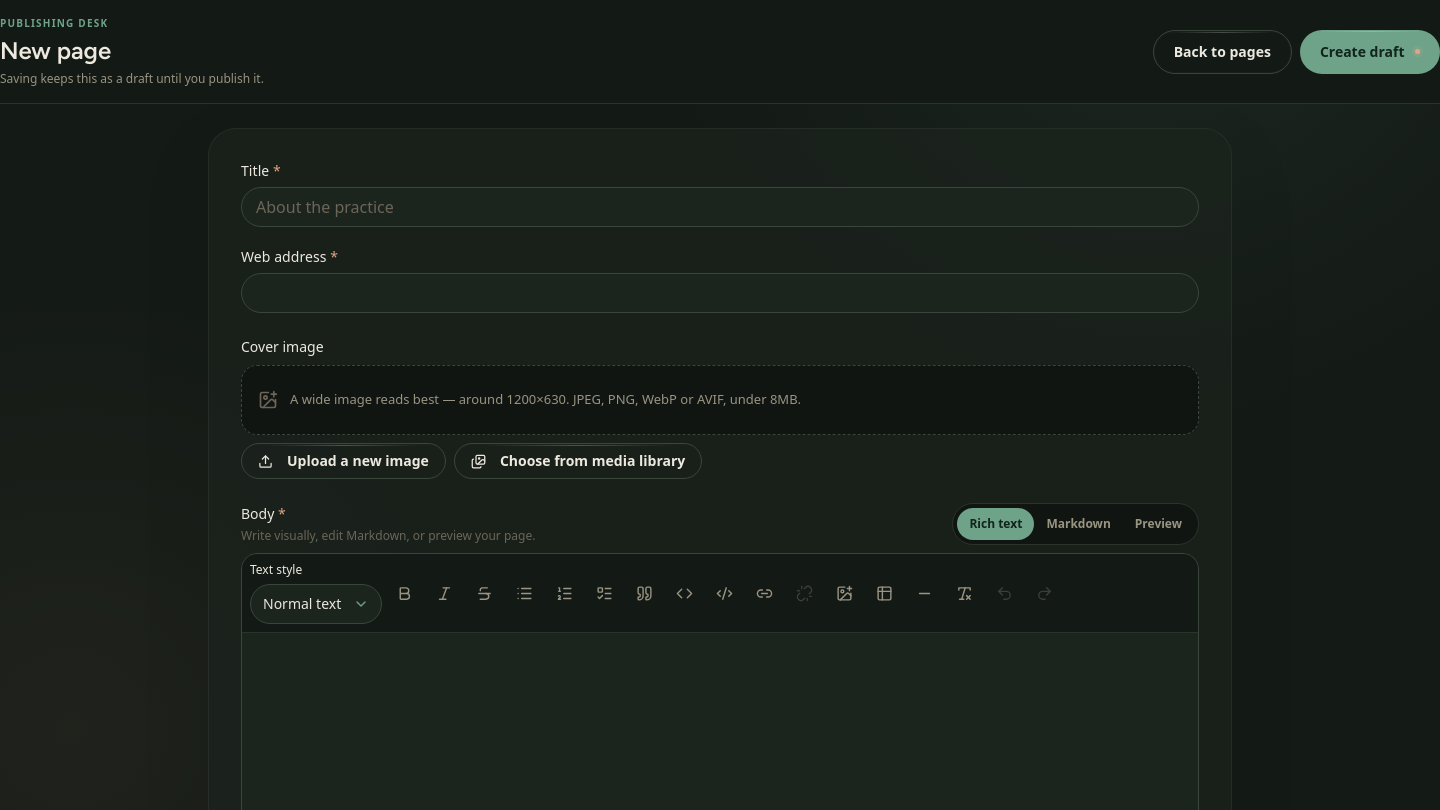
Test: ContentPage › refuses to save a page with no body
The width and height of the screenshot is (1440, 810).
Expected: the heading "New page" is shown, [0, 36, 111, 65]
Click the tab "Markdown": (1079,524) [1034, 508, 1123, 540]
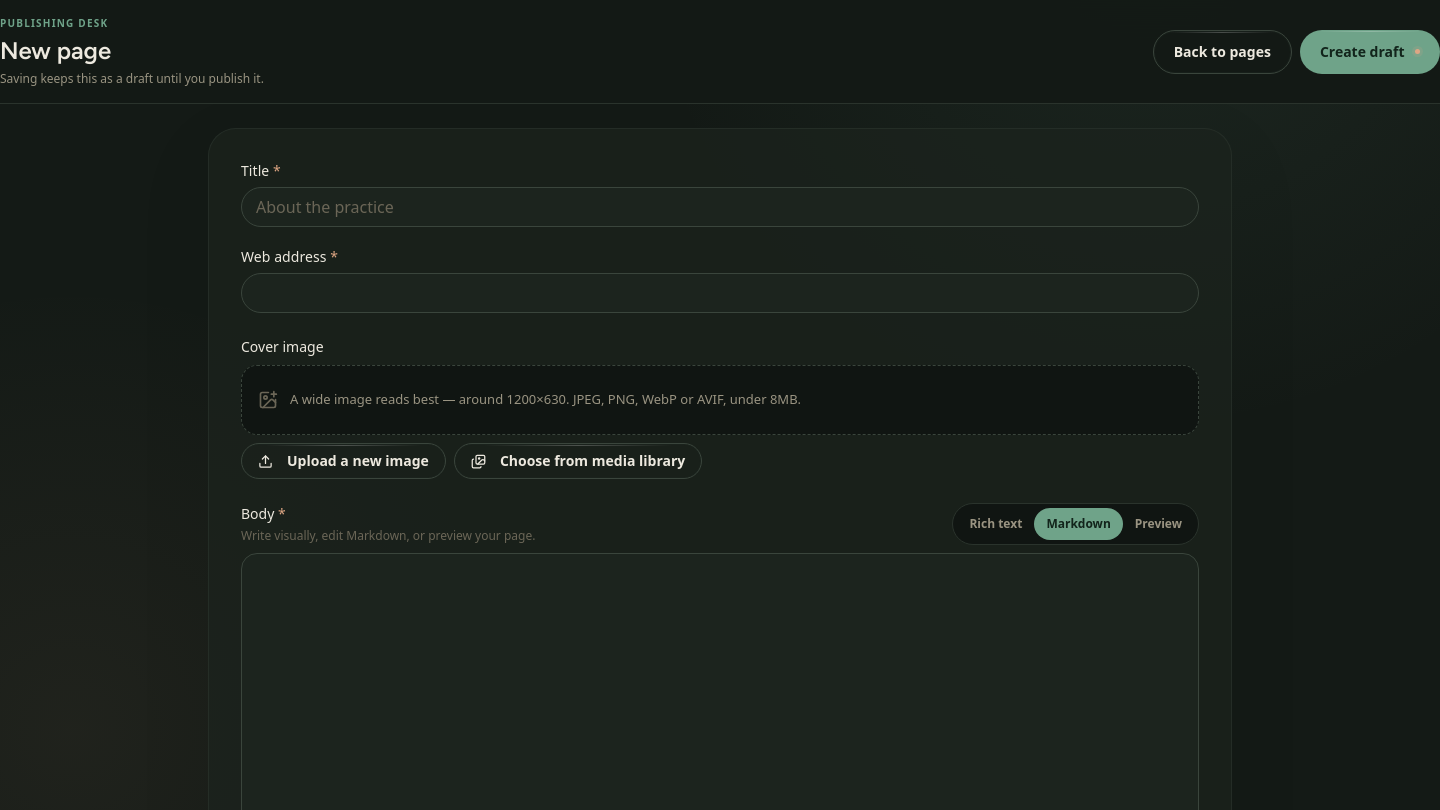
In the field labelled "Title *": (720,207) [241, 187, 1199, 227], type "Half-written"
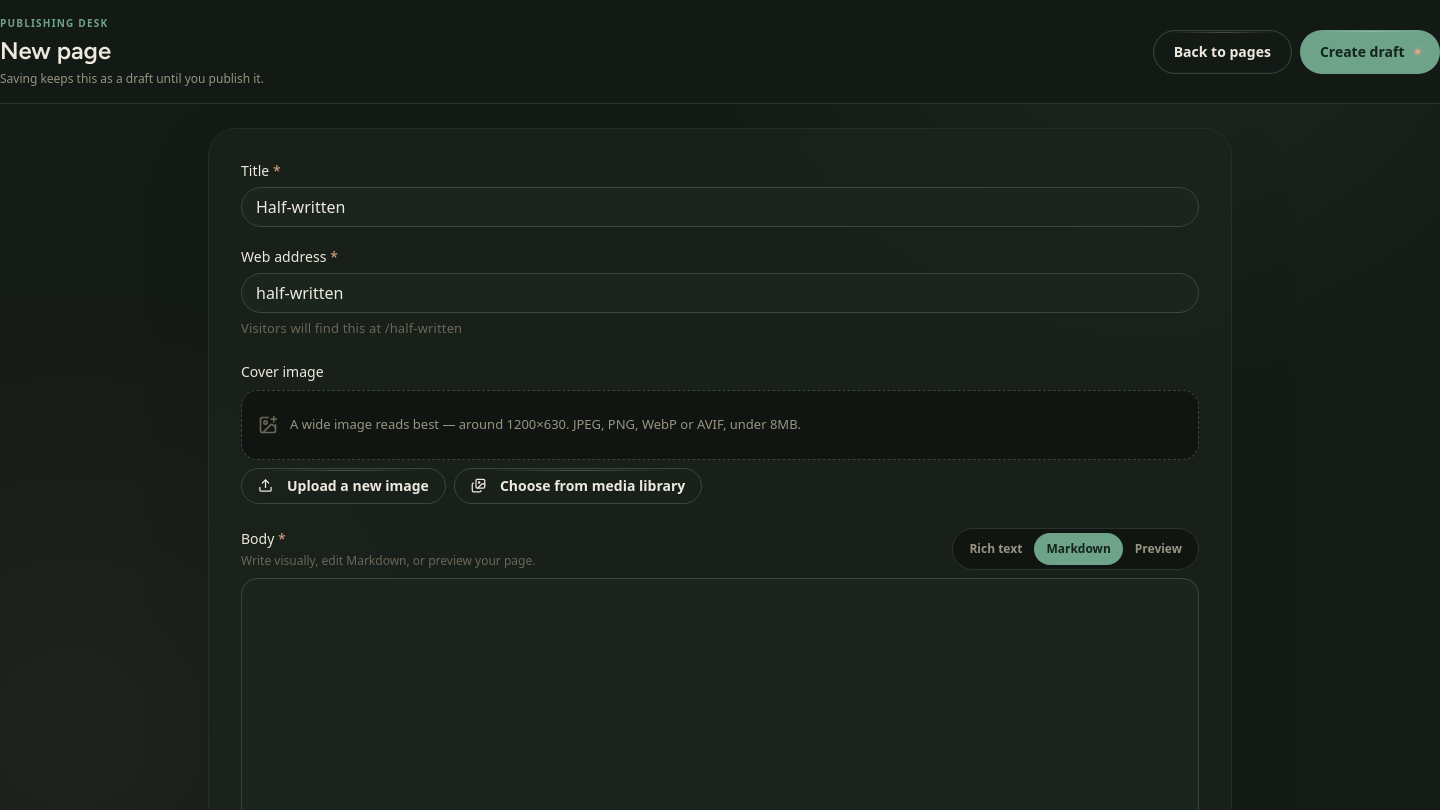
Click the button "Create draft": (1370,52) [1300, 30, 1439, 74]
(page scrolled)
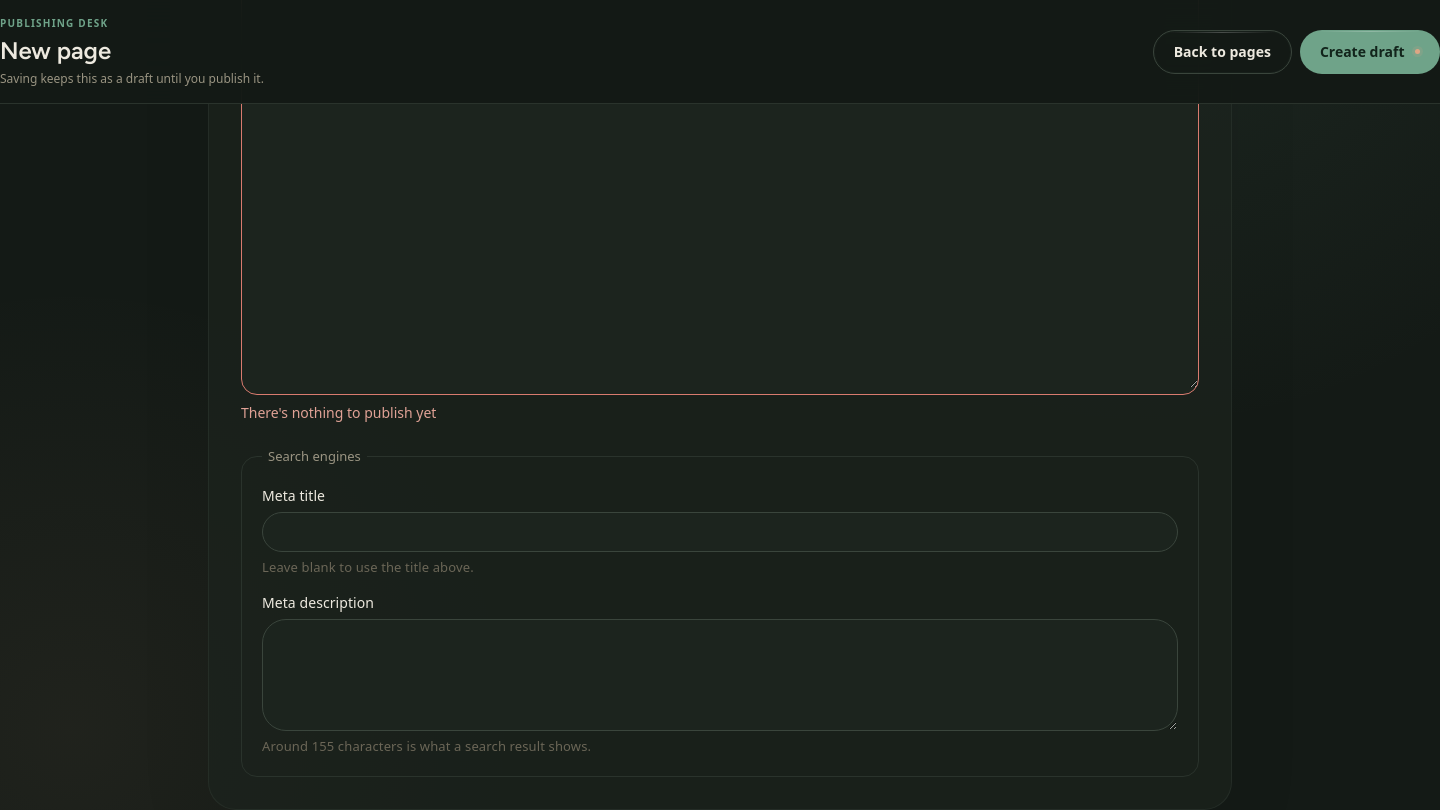
Expected: the text "There's nothing to publish yet" is shown, [241, 403, 436, 422]
